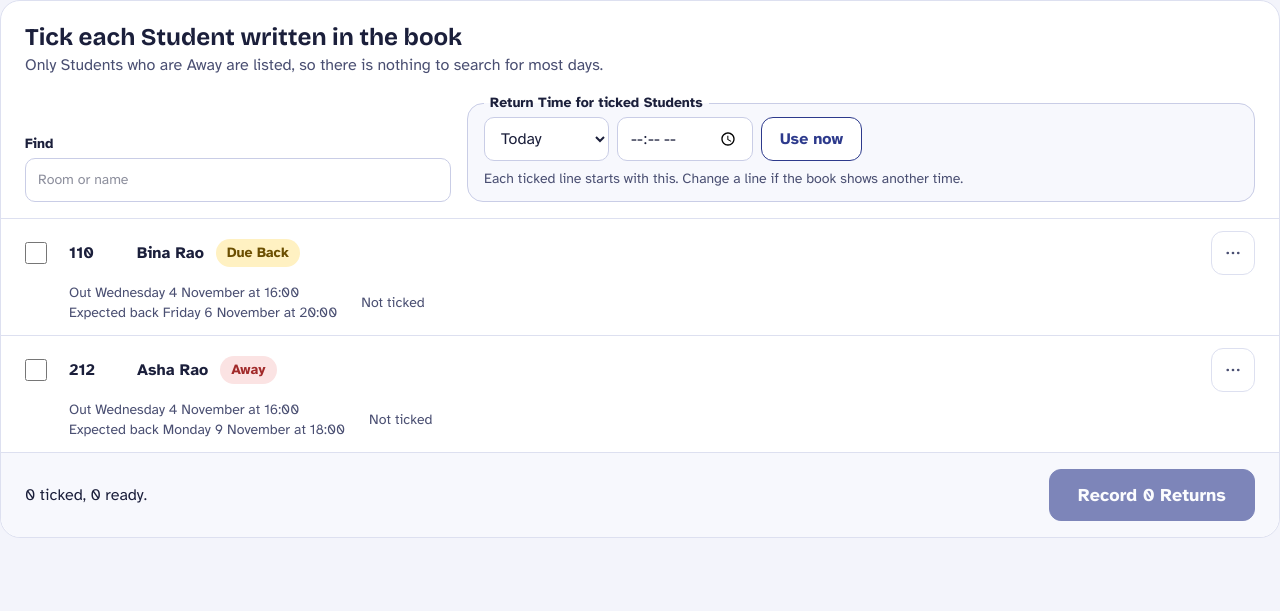
the Back-from-Home Book › keeps a refused line ticked with its reason, and clears the saved one
Type "17:15" into the time field named "Return Time for ticked Students" at (685, 139), box [617, 117, 753, 161]
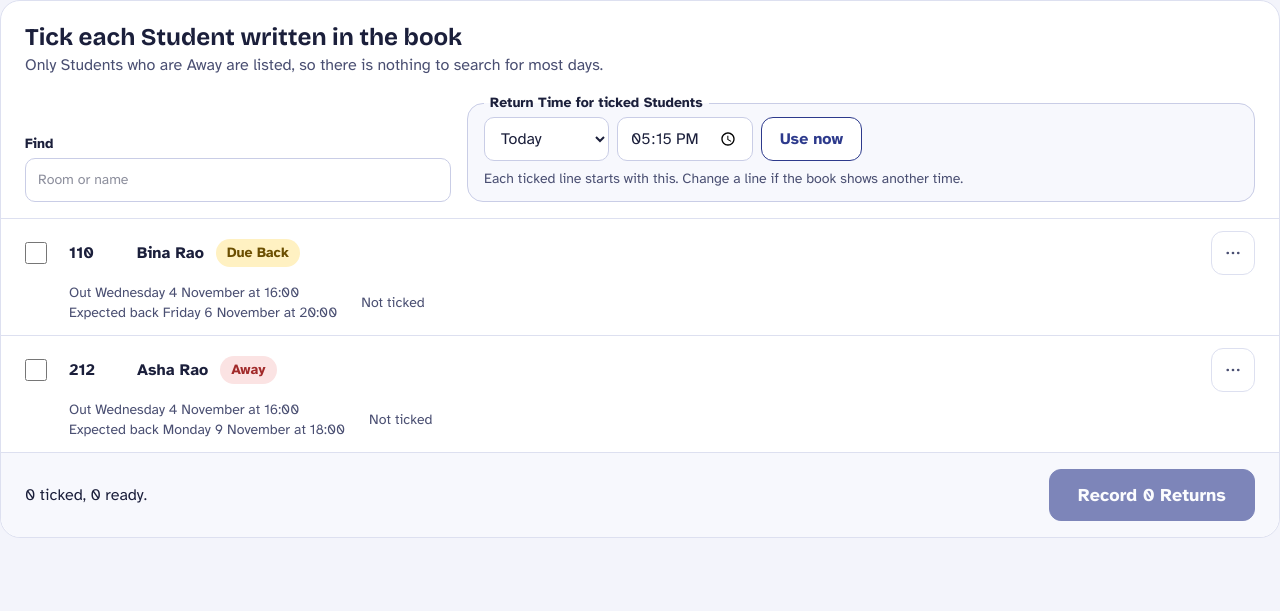
Click the checkbox named "Bina Rao came back" at (36, 253), box [25, 242, 47, 264]
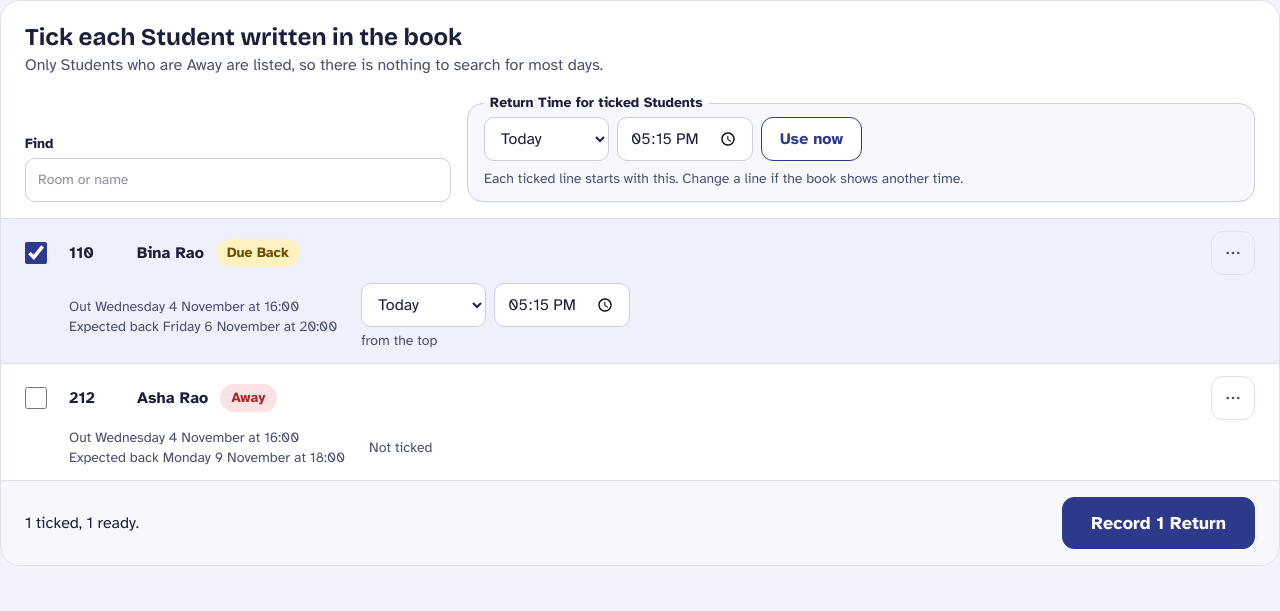
Click the checkbox named "Asha Rao came back" at (36, 398), box [25, 387, 47, 409]
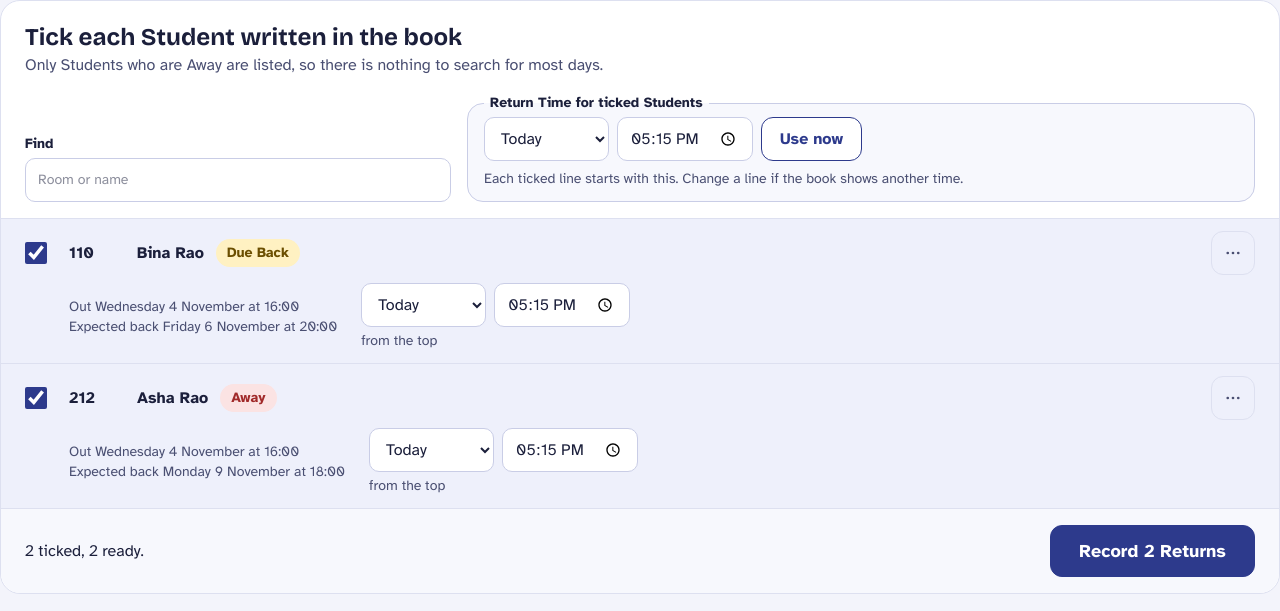
Click the button "Record 2 Returns" at (1153, 551), box [1050, 525, 1255, 577]
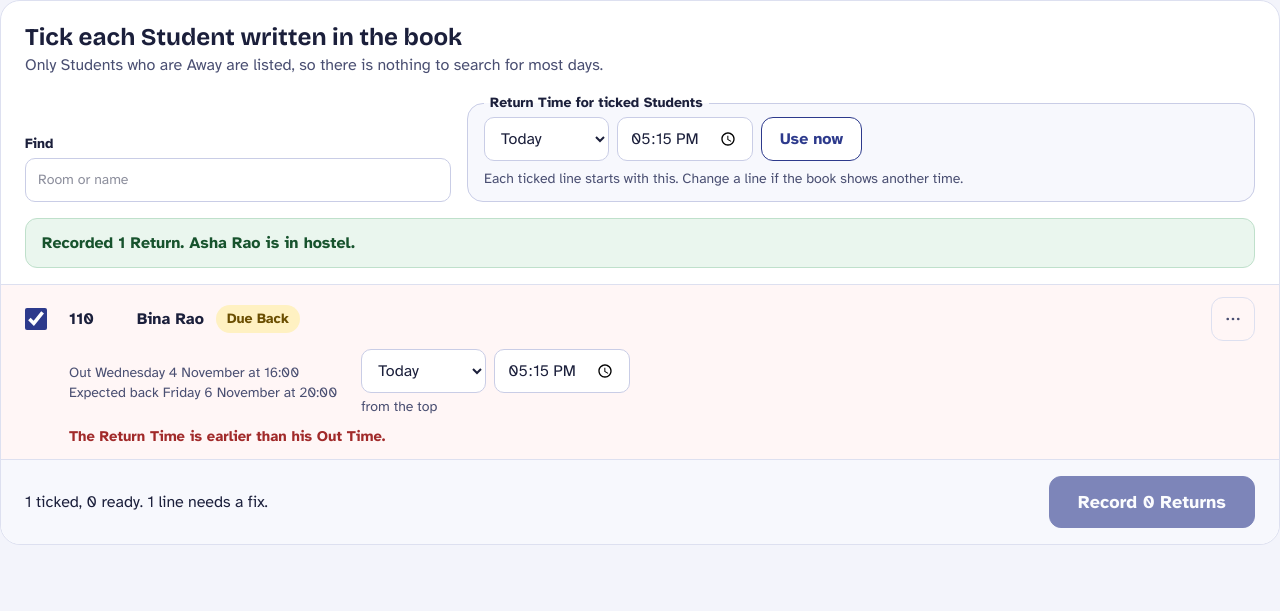
Check: the checkbox named "Bina Rao came back" is checked, box [25, 308, 47, 330]
Check: the text "Recorded 1 Return. Asha Rao is in hostel." is shown, box [25, 218, 1255, 268]
Check: the text "The Return Time is earlier than his Out Time." is shown, box [69, 427, 385, 445]
